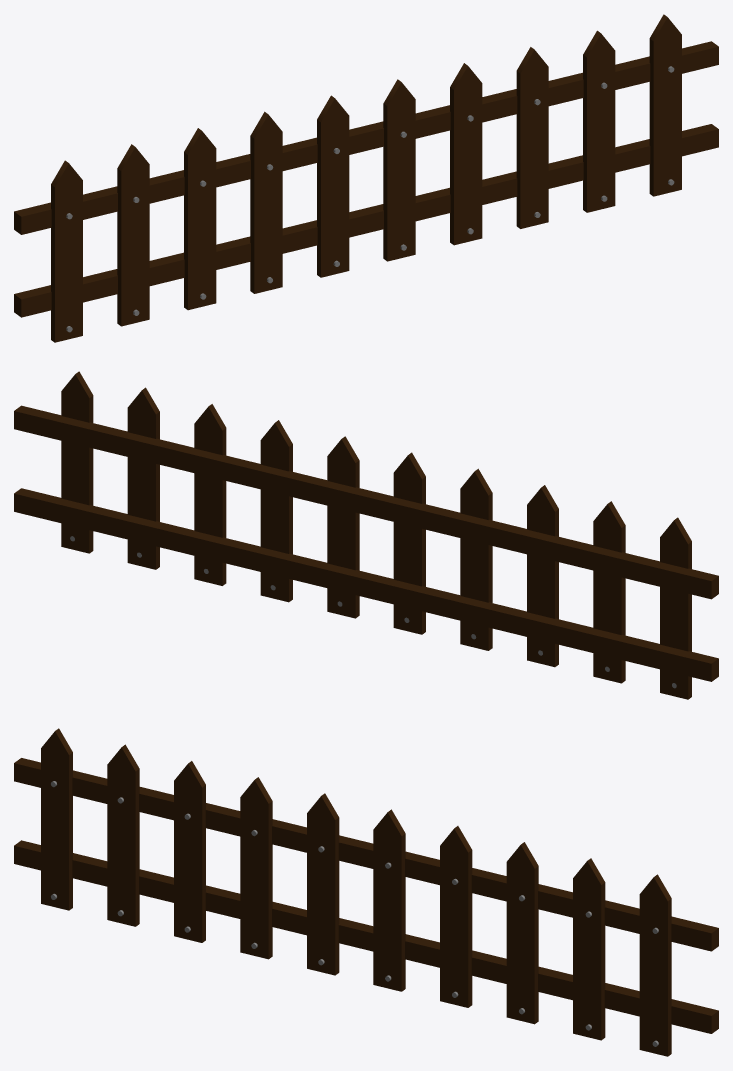
Rendered from Fence prefab.fbx.
3 views of the same model, one above another, from view 1: azimuth 30°, elevation 25°; view 2: azimuth 150°, elevation 25°; view 3: azimuth 330°, elevation 25° (orthographic).
Visible parts, largest first — view 1: Box002, Box003, Box009, Box011, Box005, Box007, Box008, Box006, Box004, Box012, Box010, Box001; view 2: Box002, Box003, Box008, Box004, Box011, Box012, Box006, Box009, Box010, Box007, Box005, Box001; view 3: Box003, Box002, Box012, Box008, Box007, Box006, Box004, Box011, Box010, Box009, Box001, Box005.
Part boxes in pixels (left/top/right/bottom): Box002: left=14, top=41, right=718, bottom=234; Box003: left=14, top=124, right=718, bottom=317; Box009: left=450, top=63, right=482, bottom=245; Box011: left=583, top=30, right=615, bottom=212; Box005: left=184, top=128, right=216, bottom=310; Box007: left=317, top=95, right=349, bottom=277; Box008: left=383, top=79, right=415, bottom=261; Box006: left=250, top=111, right=282, bottom=293; Box004: left=117, top=144, right=149, bottom=326; Box012: left=649, top=14, right=681, bottom=196; Box010: left=516, top=47, right=548, bottom=228; Box001: left=51, top=160, right=82, bottom=342; Box002: left=14, top=405, right=718, bottom=599; Box003: left=14, top=488, right=718, bottom=681; Box008: left=327, top=436, right=359, bottom=618; Box004: left=593, top=501, right=625, bottom=683; Box011: left=127, top=387, right=159, bottom=569; Box012: left=61, top=371, right=93, bottom=553; Box006: left=460, top=468, right=492, bottom=650; Box009: left=260, top=420, right=292, bottom=602; Box010: left=194, top=404, right=226, bottom=585; Box007: left=393, top=452, right=425, bottom=634; Box005: left=527, top=485, right=558, bottom=667; Box001: left=660, top=517, right=691, bottom=699; Box003: left=14, top=840, right=718, bottom=1033; Box002: left=14, top=758, right=718, bottom=951; Box012: left=639, top=874, right=671, bottom=1056; Box008: left=373, top=809, right=405, bottom=991; Box007: left=307, top=793, right=339, bottom=975; Box006: left=240, top=777, right=272, bottom=959; Box004: left=107, top=744, right=139, bottom=926; Box011: left=573, top=858, right=605, bottom=1040; Box010: left=506, top=842, right=538, bottom=1024; Box009: left=440, top=826, right=472, bottom=1007; Box001: left=41, top=728, right=72, bottom=910; Box005: left=174, top=761, right=205, bottom=942.
Bounding box in the file's own units: 285 × 68.79 × 8.59.
